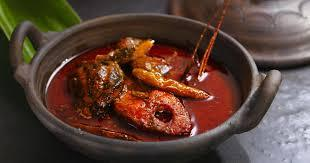Fish Curry: (48, 21, 241, 141)
